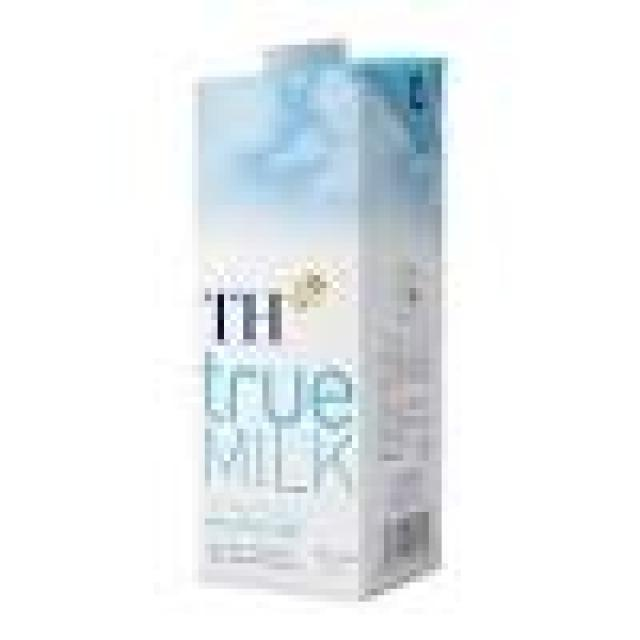non_white_jug: (170, 16, 444, 611)
